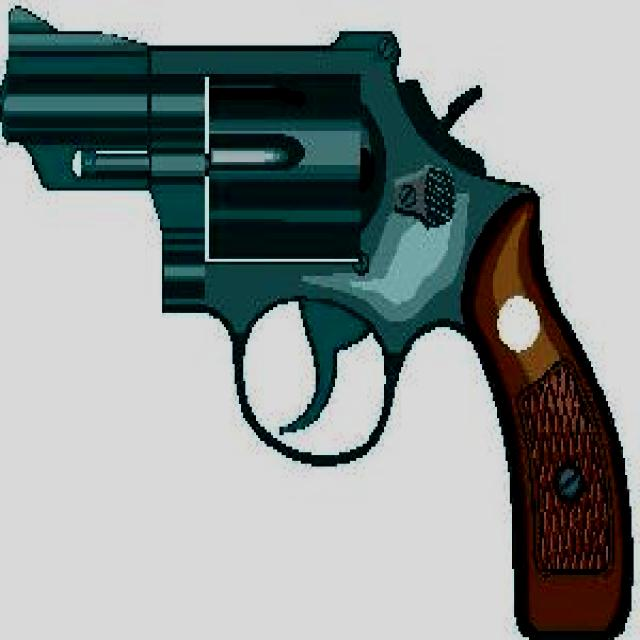pistol: (7, 0, 634, 634)
